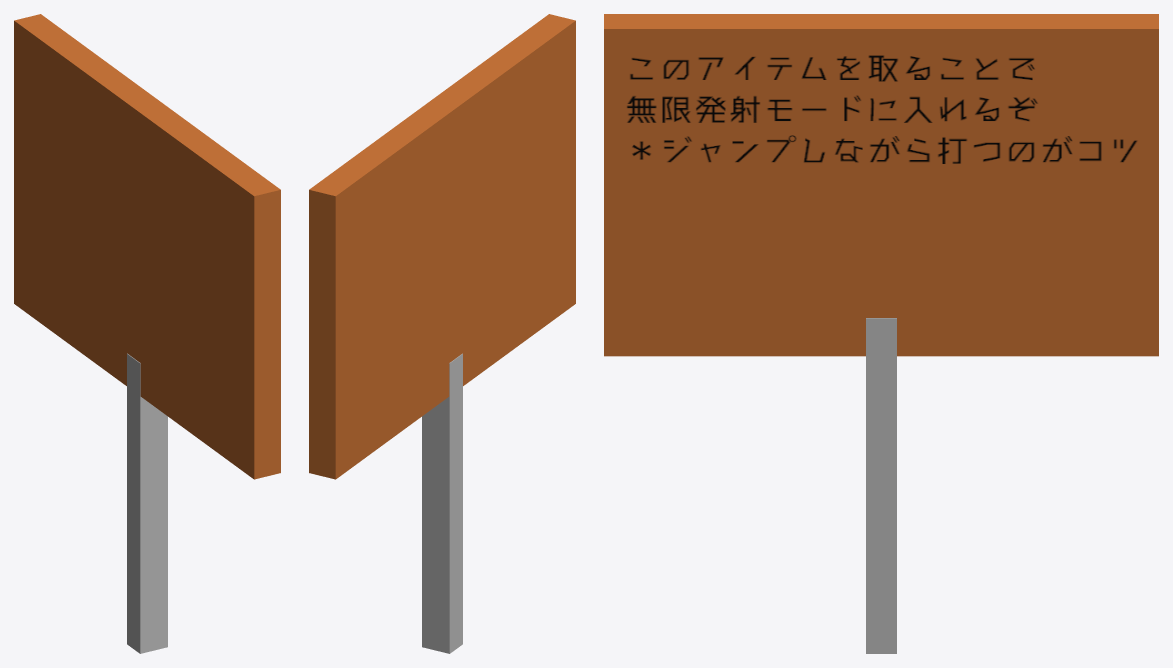
File: kanban2.obj
3 renders of one model, left to right at view 1: azimuth 30°, elevation 25°; view 2: azimuth 150°, elevation 25°; view 3: azimuth 270°, elevation 25°, orthographic. The views are drawn at different scales.
Visible parts, largest first — view 1: 立方体; view 2: 立方体; view 3: 立方体.
Part boxes in pixels (x1,y1,x2,y2): 立方体: [14, 14, 280, 653]; 立方体: [309, 14, 575, 653]; 立方体: [604, 14, 1158, 653].
Size of the model in its own units: 0.3488 by 6.45 by 5.2.
